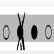correct: (31, 16, 39, 41)
not correct: (16, 11, 26, 52)
